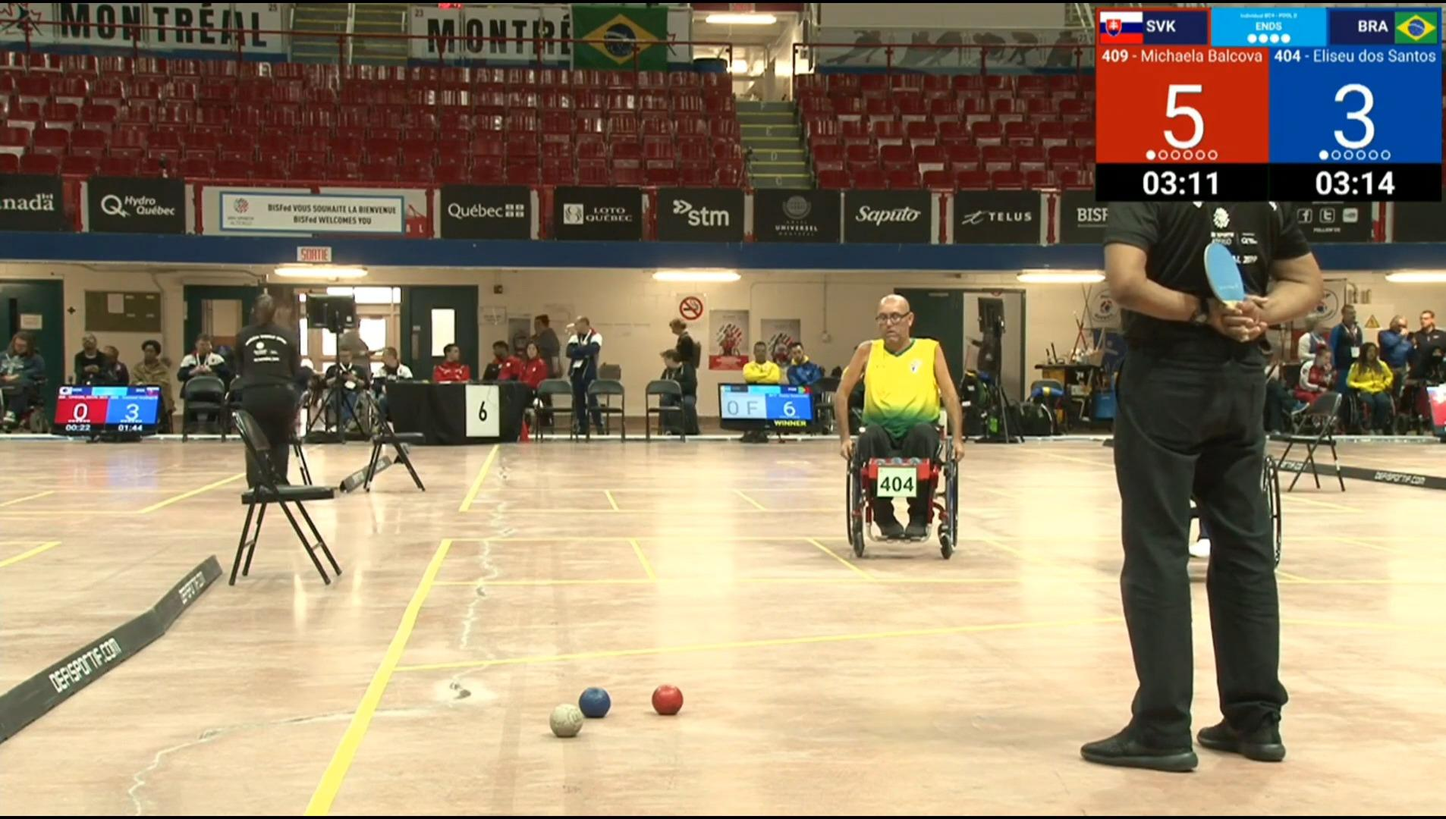blue_ball: (580, 688, 611, 719)
red_ball: (653, 682, 685, 717)
white_ball: (549, 702, 583, 739)
